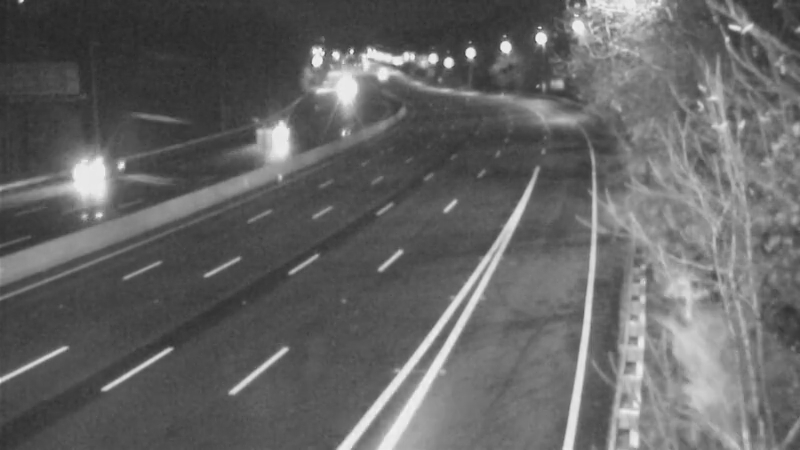vehicle: (51, 134, 131, 214), (254, 110, 304, 160), (319, 63, 369, 113)
